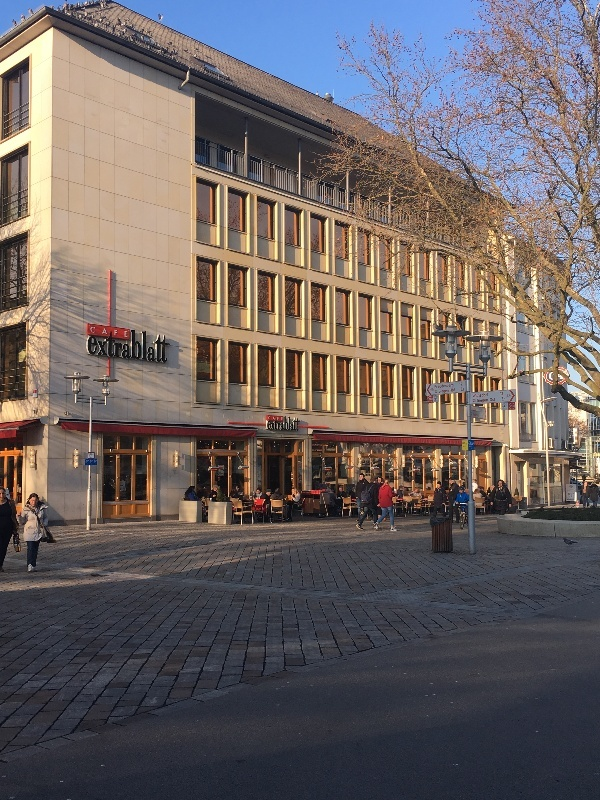text: (97, 325, 112, 365), (113, 325, 128, 365), (129, 325, 144, 365), (145, 325, 160, 365), (161, 325, 171, 365), (87, 325, 96, 365), (273, 416, 288, 431), (97, 326, 112, 338), (113, 326, 128, 338), (289, 416, 300, 431), (481, 398, 496, 404), (267, 416, 272, 431), (450, 388, 464, 393), (435, 384, 448, 389), (91, 326, 96, 338), (86, 459, 96, 465), (273, 416, 283, 421), (439, 390, 448, 395), (501, 392, 512, 396), (481, 393, 489, 398), (473, 393, 480, 398), (502, 398, 512, 401), (449, 384, 454, 389), (460, 382, 464, 387), (477, 398, 480, 404), (269, 416, 272, 421), (461, 388, 464, 392), (429, 398, 432, 401), (510, 405, 512, 408), (97, 459, 98, 465), (513, 405, 514, 408)
